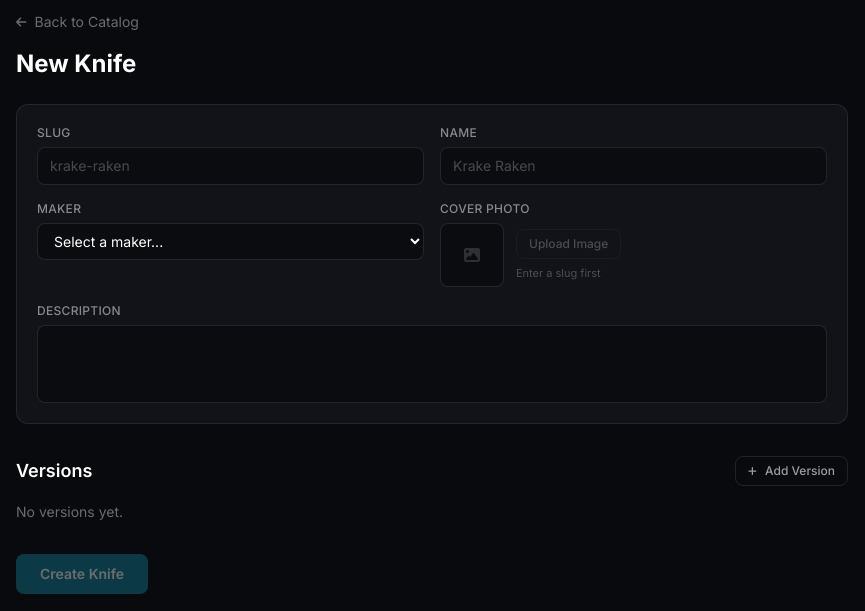
it: AdminKnifeFormPage — create mode › disables submit until slug, name, and maker are set
Expected: the button "Create Knife" is disabled, [16, 554, 148, 594]
Type "new-knife" into the field with placeholder "krake-raken".
click(230, 166); type("new-knife")  # box [37, 147, 424, 185]
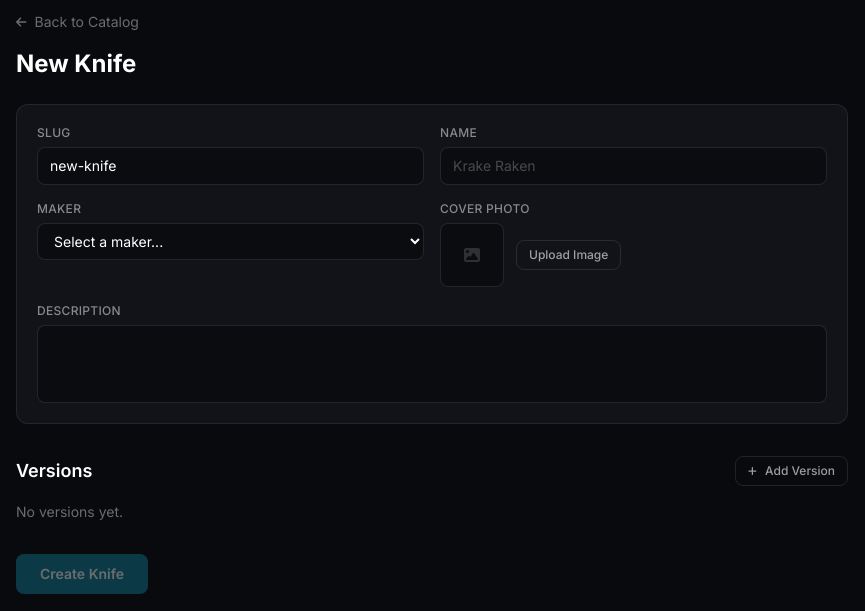
Type "New Knife" into the field with placeholder "Krake Raken".
click(634, 166); type("New Knife")  # box [440, 147, 827, 185]
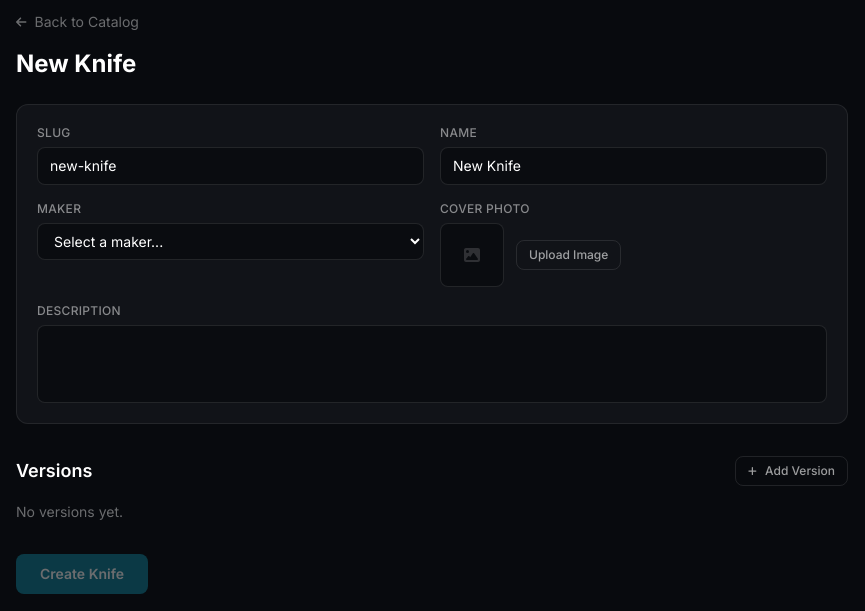
Expected: the button "Create Knife" is disabled, [16, 554, 148, 594]
Select "Acme Knives" in the dropdown showing "Select a maker..." at (230, 242), box [37, 223, 424, 260]
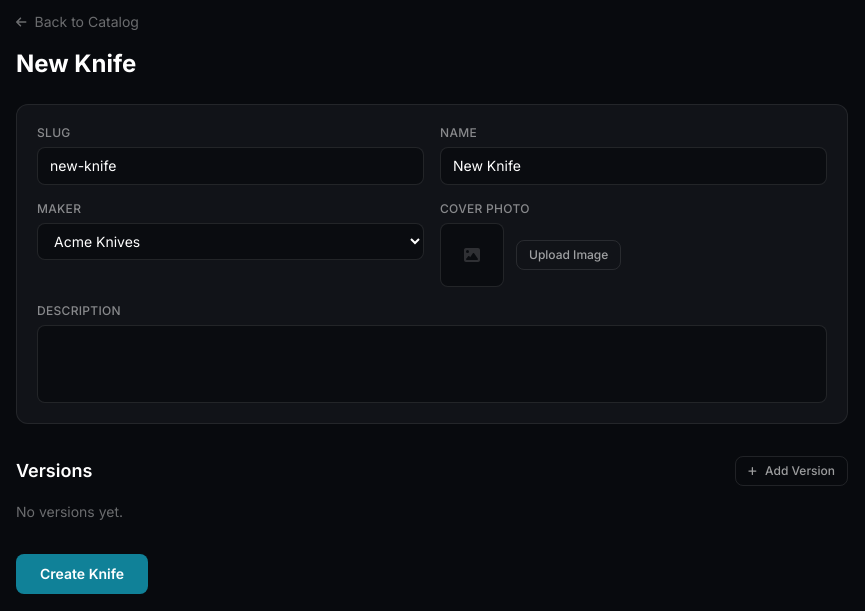
Now the button "Create Knife" is enabled, box [16, 554, 148, 594]
